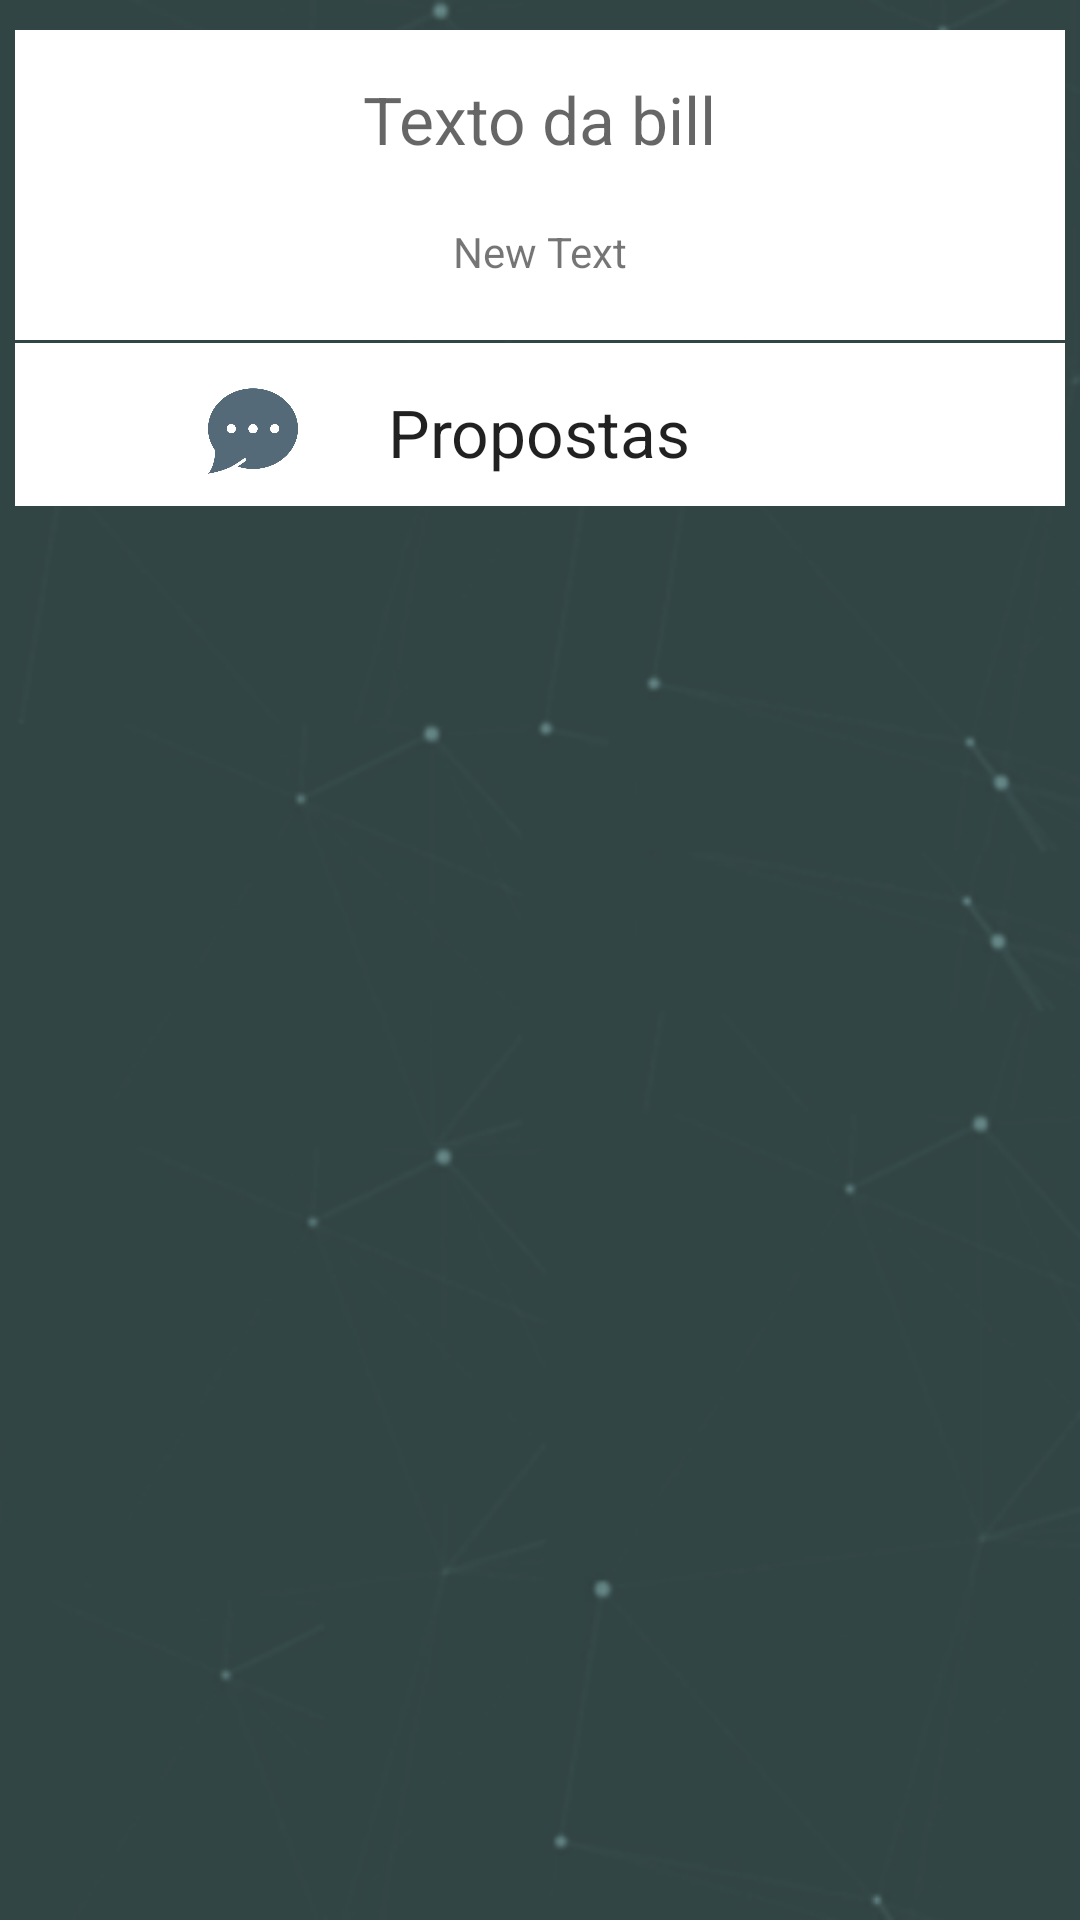

Icons on this 1080w x 1920h Android screen, each with the point to tap as (x=x, y=y):
chat: (x=253, y=431)
